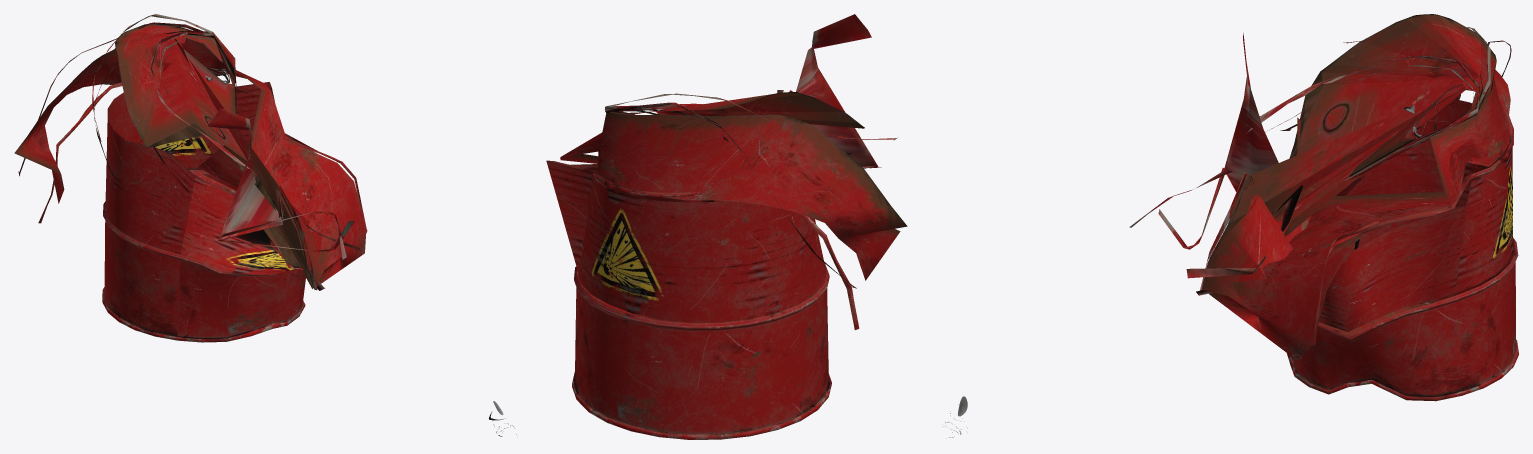
Rendered from exploded_barrel.gltf.
3 views of the same model, side by side, from view 1: azimuth 30°, elevation 25°; view 2: azimuth 150°, elevation 25°; view 3: azimuth 270°, elevation 25° (orthographic). The views are drawn at different scales.
Parts seen in each view (by area): view 1: Barrel_01; view 2: Barrel_01; view 3: Barrel_01.
Boxes of the visible parts, <box> form: Barrel_01: <box>14,14,516,436</box>; Barrel_01: <box>546,14,907,439</box>; Barrel_01: <box>945,14,1518,437</box>.
Bounding box in the file's own units: 0.9598 × 0.8607 × 1.4.
Materials: 1 (1 with a texture image).
